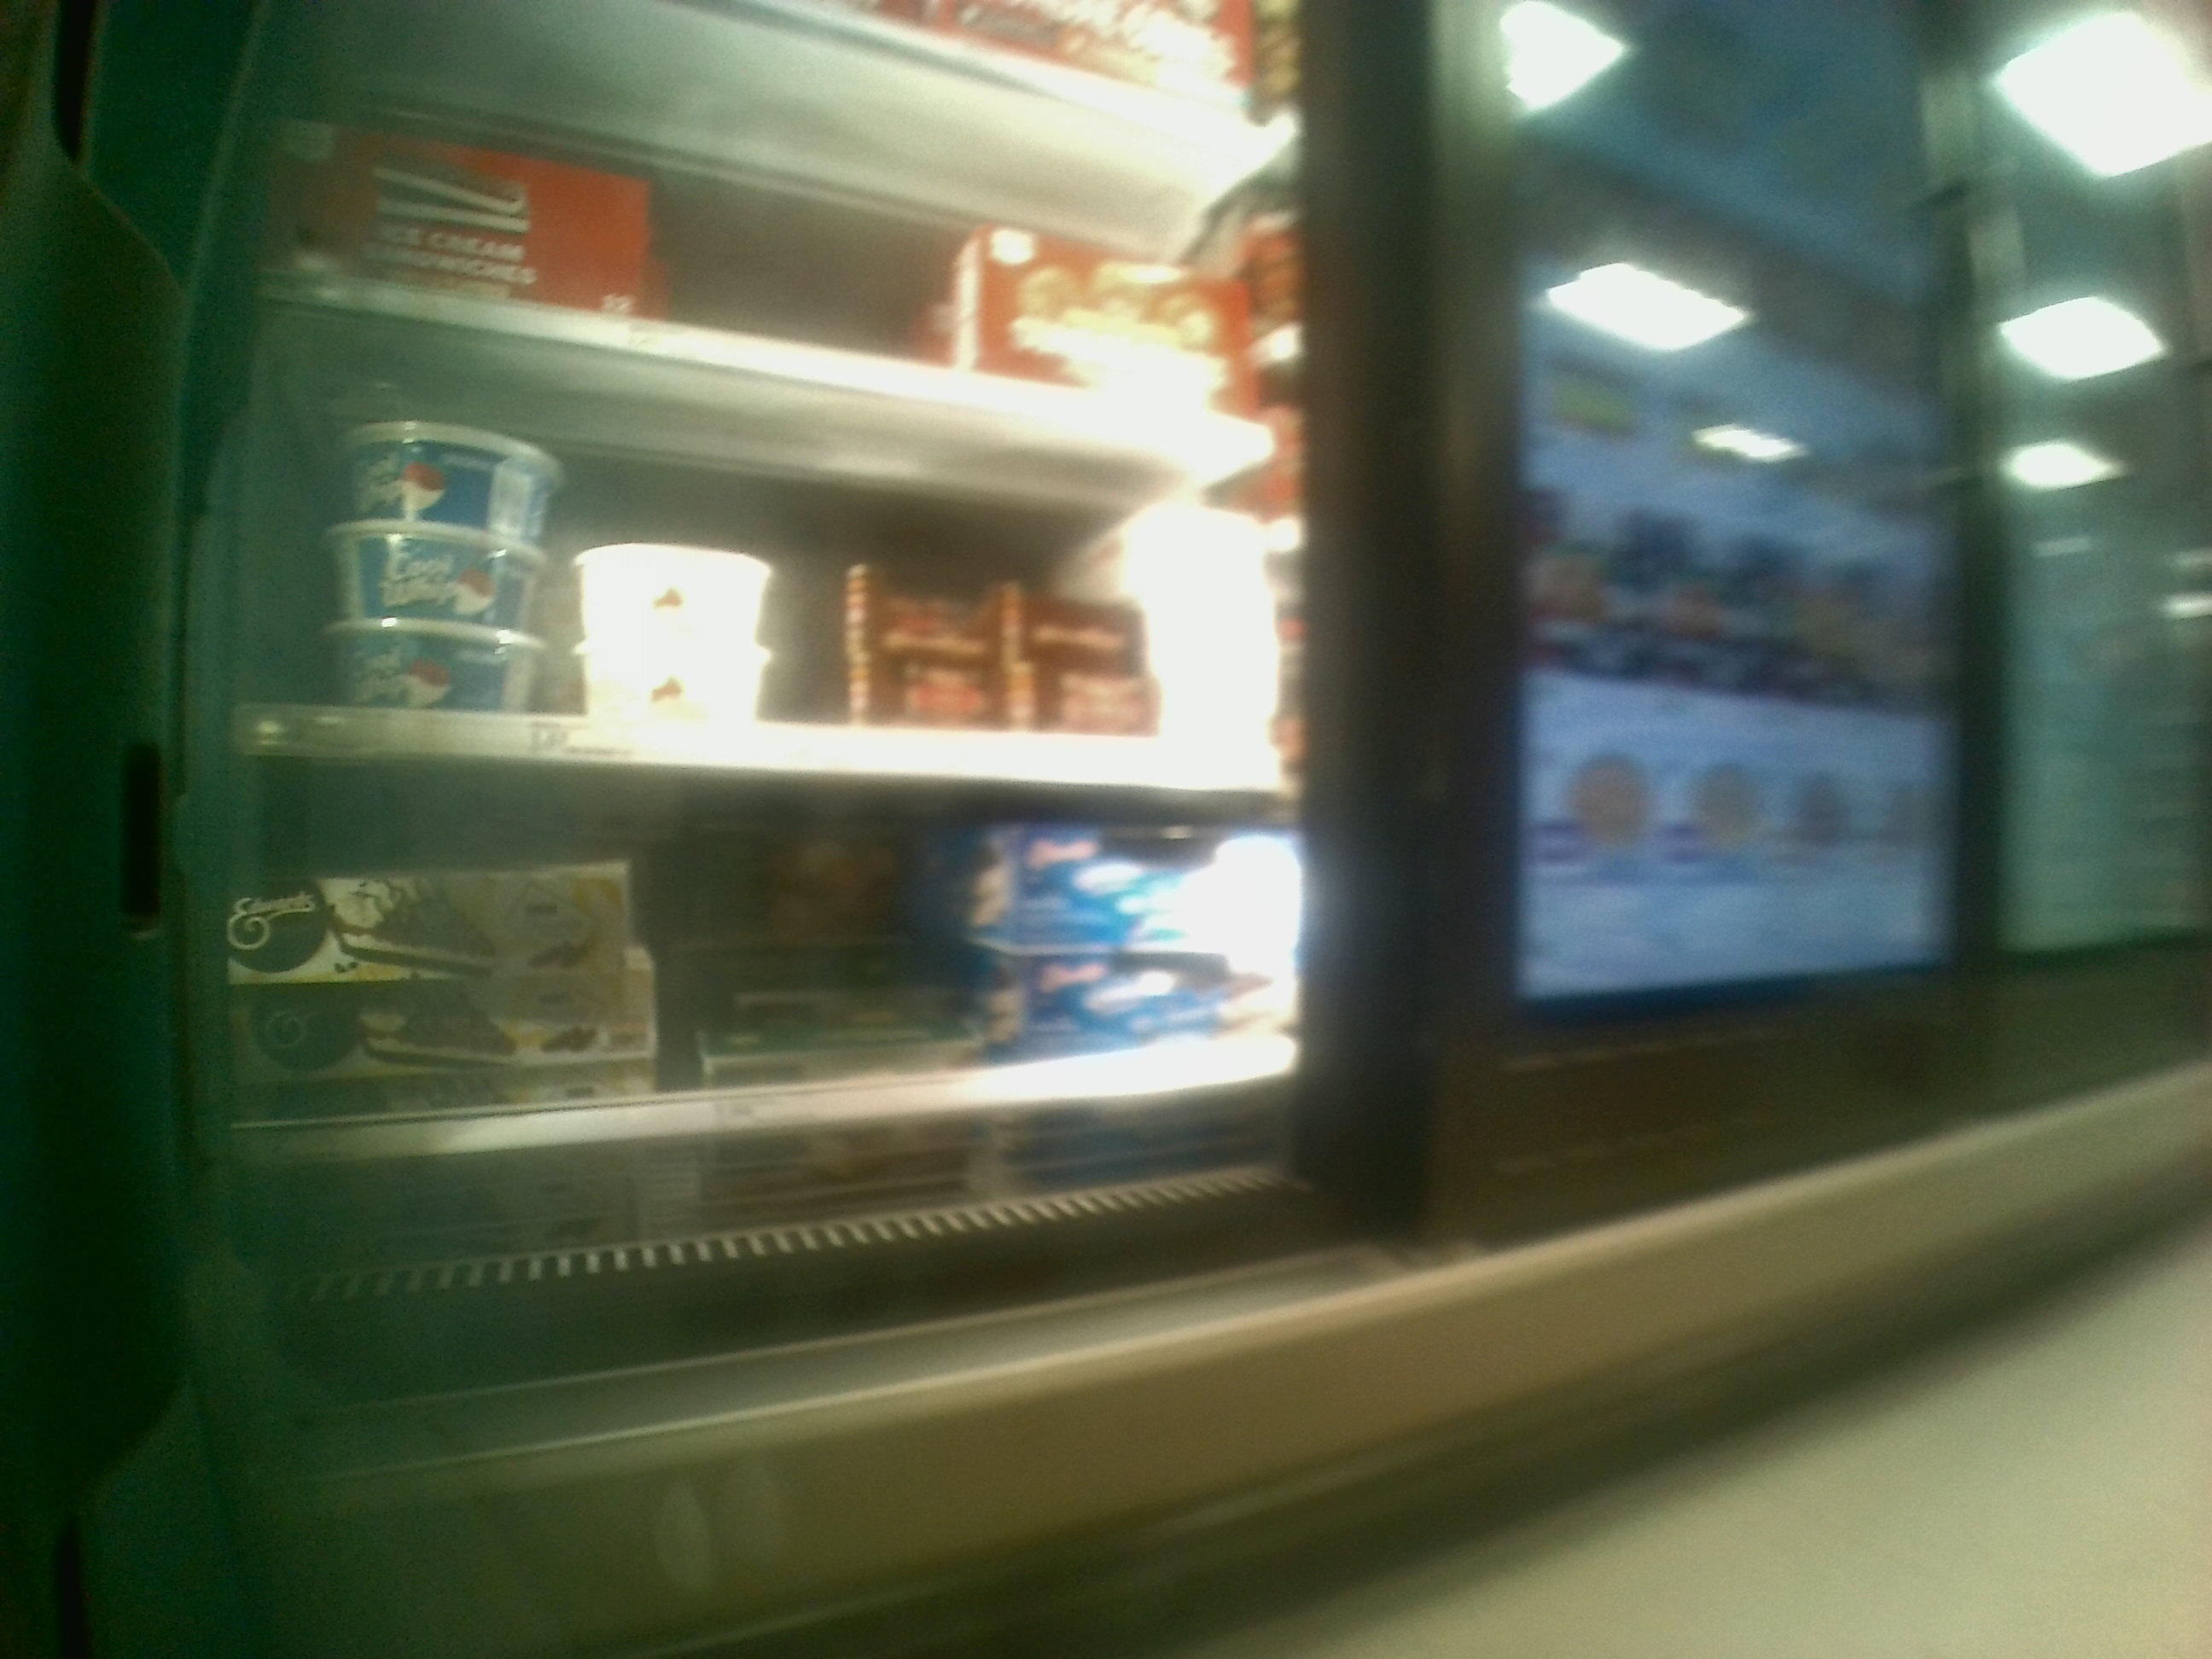shelf: (233, 763, 1332, 1265), (240, 295, 1294, 793)
